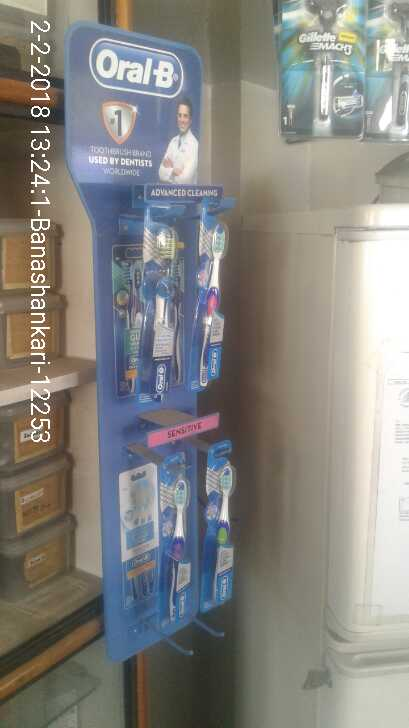beauty: (279, 1, 408, 141)
pharmacy: (118, 202, 186, 401), (148, 465, 194, 630), (193, 213, 232, 397), (203, 454, 241, 608)
